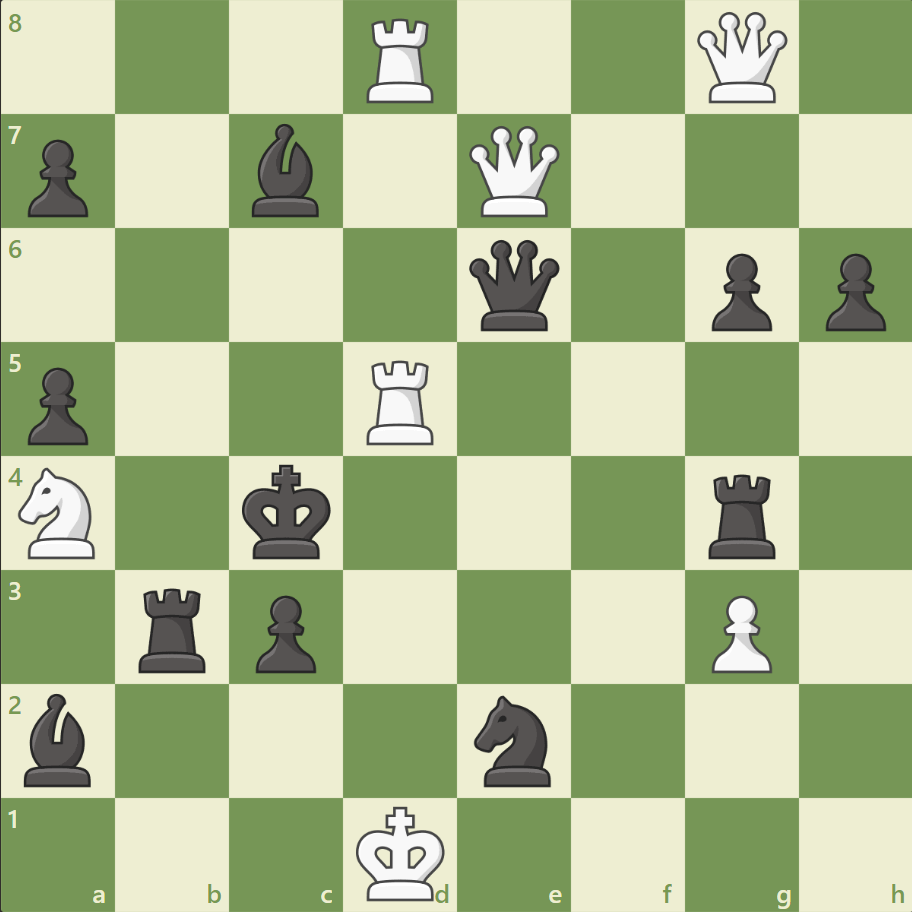K: (351, 798, 451, 906)
N: (11, 461, 108, 564)
P: (701, 586, 776, 677)
Q: (464, 122, 563, 222), (691, 9, 790, 108)
R: (360, 12, 442, 109), (360, 352, 442, 449)
b: (17, 687, 101, 790), (244, 120, 328, 222)
k: (238, 458, 338, 566)
n: (465, 688, 562, 791)
p: (20, 132, 95, 223), (701, 246, 776, 337), (20, 359, 95, 450), (247, 586, 322, 677), (815, 246, 889, 337)
q: (464, 236, 563, 335)
r: (700, 466, 783, 563), (133, 579, 215, 676)
